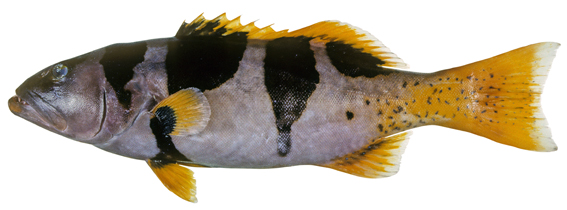fish: (8, 10, 562, 204)
